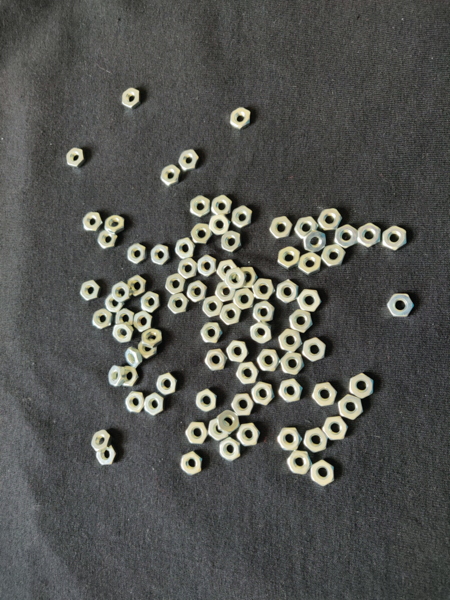nut: (311, 459, 335, 487), (304, 427, 328, 454), (387, 294, 415, 317), (350, 374, 375, 399), (339, 395, 364, 420), (383, 225, 407, 251), (288, 451, 313, 475), (236, 423, 261, 447), (323, 417, 349, 440), (313, 383, 337, 407), (303, 338, 327, 362), (290, 309, 314, 333), (279, 379, 303, 403), (278, 428, 303, 451), (217, 410, 240, 435), (335, 225, 358, 249), (322, 244, 346, 267), (298, 289, 322, 312), (299, 252, 322, 276), (270, 216, 293, 240), (279, 329, 303, 352), (281, 352, 305, 375), (252, 382, 275, 406), (359, 223, 381, 248), (294, 217, 319, 239), (319, 208, 342, 231), (303, 230, 326, 253), (278, 247, 301, 270), (257, 349, 280, 372), (236, 362, 259, 385), (181, 451, 202, 476), (253, 278, 276, 300), (250, 321, 272, 344), (231, 394, 254, 416), (227, 340, 249, 363), (202, 295, 224, 318), (206, 349, 228, 372), (186, 422, 208, 445), (277, 280, 298, 304), (220, 437, 240, 462), (208, 419, 230, 441), (230, 107, 251, 130), (197, 389, 217, 413), (145, 393, 165, 417), (232, 206, 253, 228), (253, 301, 275, 322), (236, 267, 258, 288), (233, 289, 255, 310), (220, 304, 242, 325), (217, 260, 239, 281), (216, 281, 237, 303), (201, 322, 223, 343), (210, 214, 231, 236), (191, 224, 213, 245), (175, 238, 196, 260), (168, 293, 189, 315), (156, 373, 177, 395), (91, 430, 112, 452), (191, 195, 211, 218), (187, 280, 207, 303), (112, 281, 132, 304), (226, 268, 247, 289), (113, 322, 134, 343), (179, 150, 199, 172), (161, 165, 181, 187), (166, 273, 186, 295), (125, 391, 145, 413), (178, 258, 198, 279), (80, 280, 100, 301), (222, 231, 241, 253), (198, 255, 217, 277), (151, 244, 170, 266), (128, 275, 147, 297), (134, 311, 153, 333), (212, 195, 232, 215), (105, 215, 125, 235), (142, 329, 162, 349), (138, 339, 158, 359), (122, 88, 141, 109), (141, 292, 160, 313), (93, 309, 112, 330), (128, 243, 146, 265), (126, 346, 143, 369), (83, 212, 102, 232), (97, 446, 116, 466), (98, 230, 117, 249), (116, 308, 135, 327), (106, 293, 124, 313), (122, 366, 139, 387), (109, 366, 126, 387), (67, 148, 84, 168)
